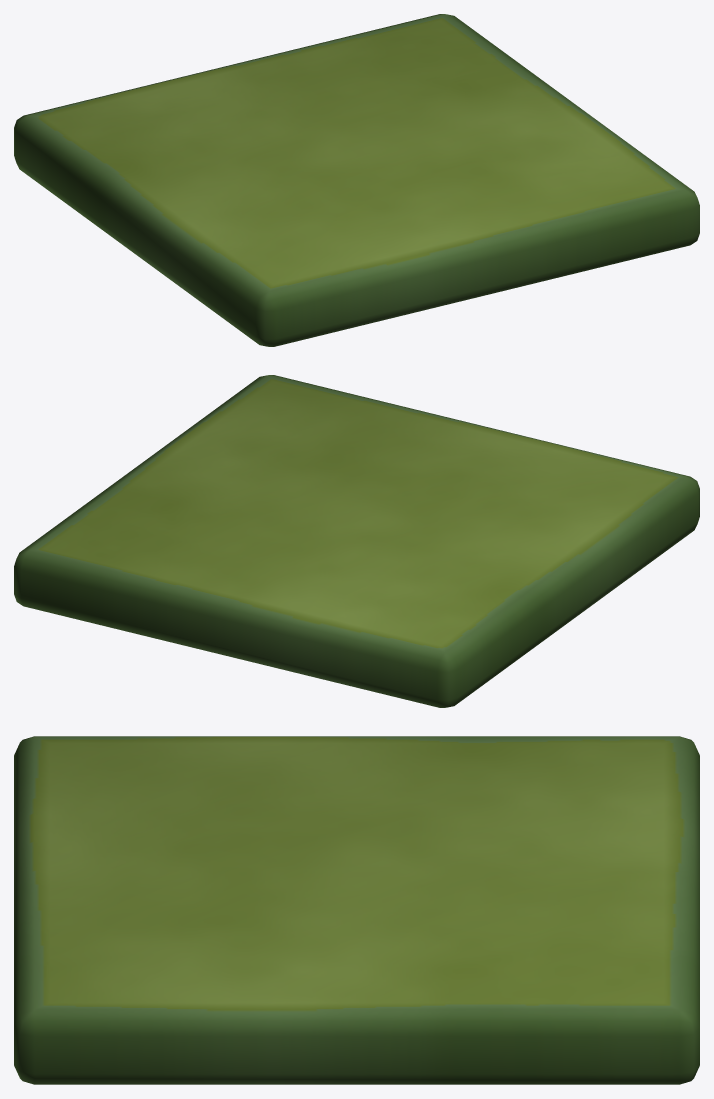
The model's file is floor.glb.
3 renders of one model, top to bottom at view 1: azimuth 30°, elevation 25°; view 2: azimuth 150°, elevation 25°; view 3: azimuth 270°, elevation 25°, orthographic. The views are drawn at different scales.
Visible parts, largest first — view 1: floor; view 2: floor; view 3: floor.
Boxes of the visible parts, box(x1,y1,x2,y2) form: floor: box(14, 14, 699, 346); floor: box(14, 375, 699, 707); floor: box(14, 736, 699, 1084).
Size of the model in its own units: 1 by 0.12 by 1.
1 material, 1 textured.
